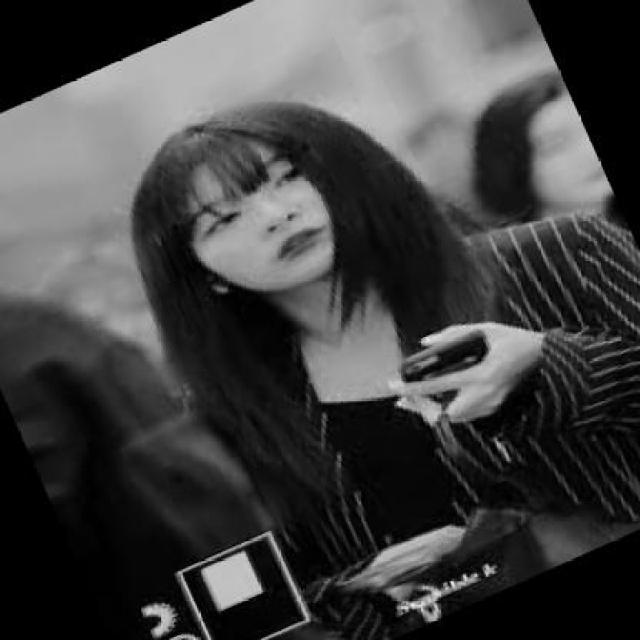smart phone: (371, 323, 503, 431)
